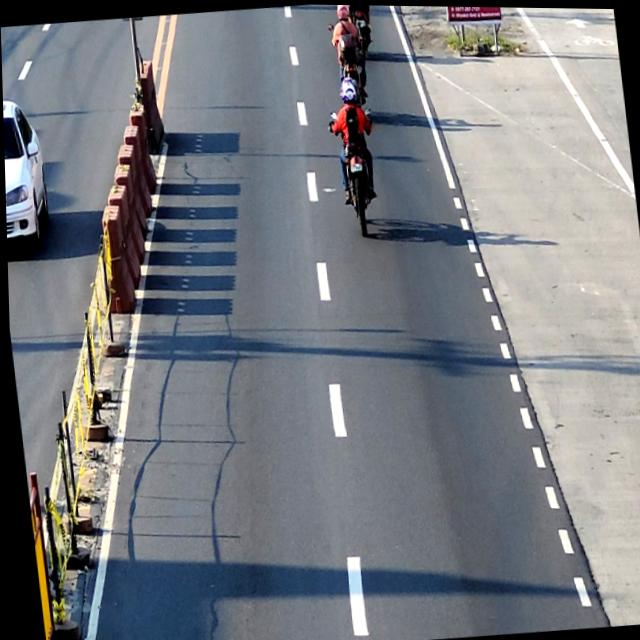Car: (2, 95, 51, 250)
License-Plate: (349, 163, 361, 170), (357, 19, 365, 25)
Motorcycle: (329, 104, 384, 237), (327, 18, 369, 108), (347, 4, 374, 55)
